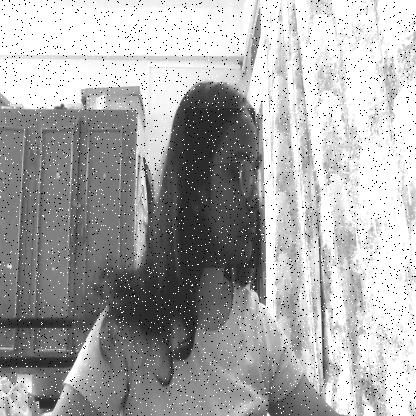Distracted: (184, 108, 258, 268)
